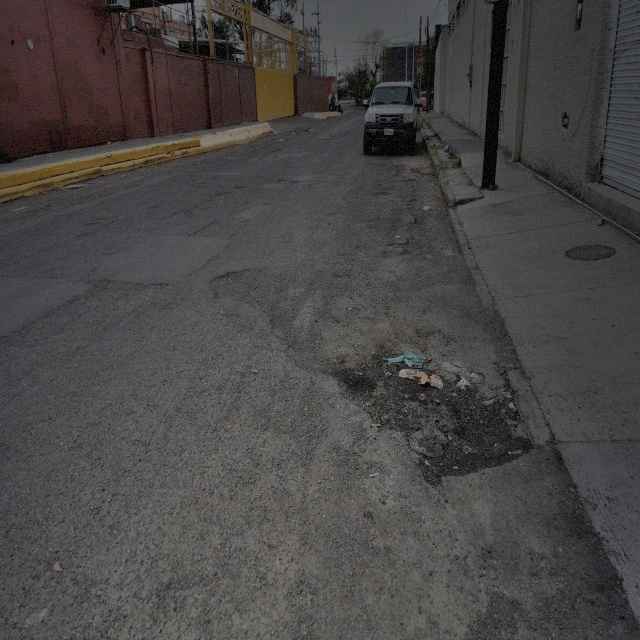pothole: (342, 347, 534, 484), (208, 263, 333, 381), (402, 174, 459, 262)
